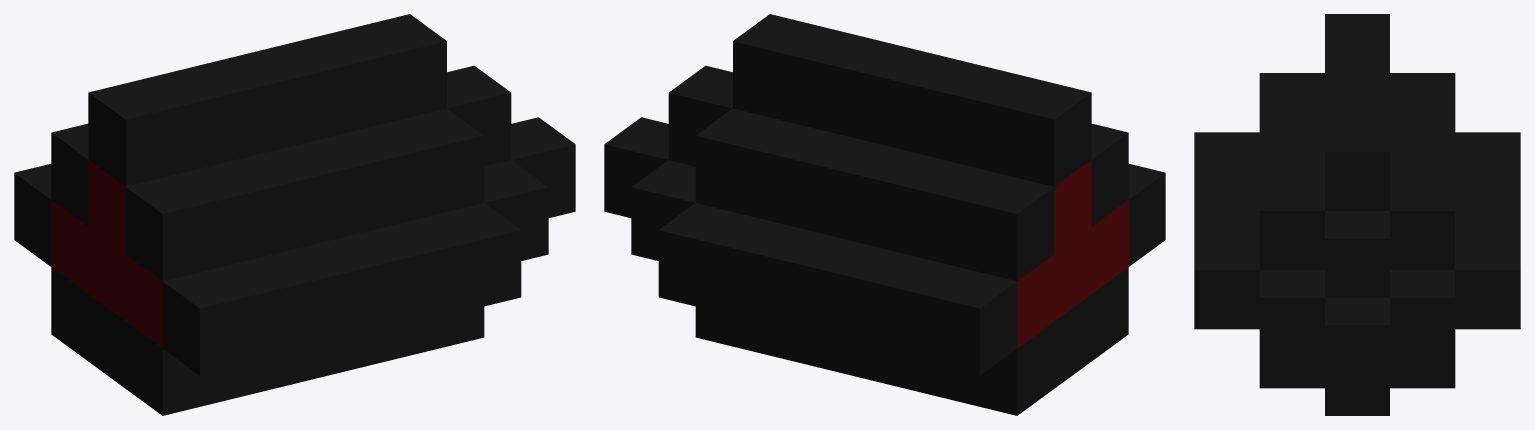
Rendered from TorpedoWarhead.vox.obj.
The picture shows the model from 3 angles, left to right: view 1: azimuth 30°, elevation 25°; view 2: azimuth 150°, elevation 25°; view 3: azimuth 270°, elevation 25°; orthographic projection. The views are drawn at different scales.
Bounding box in the file's own units: 0.7 × 0.4 × 0.5.
1 material, 1 textured.
